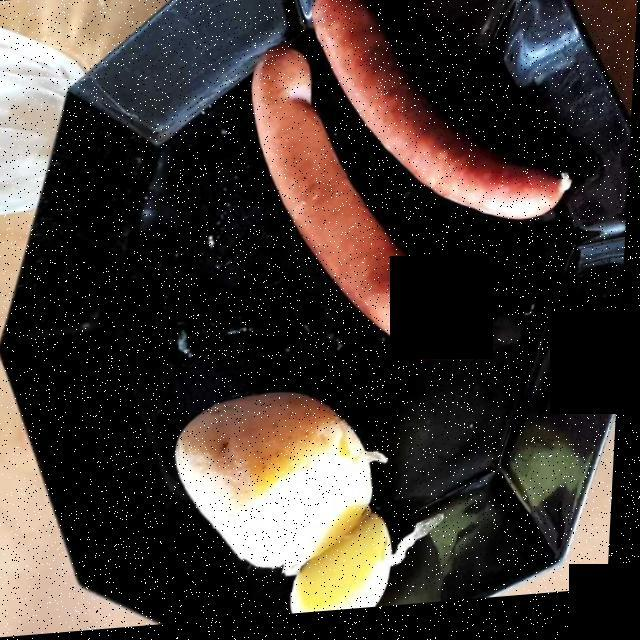sausage: (241, 0, 581, 363)
